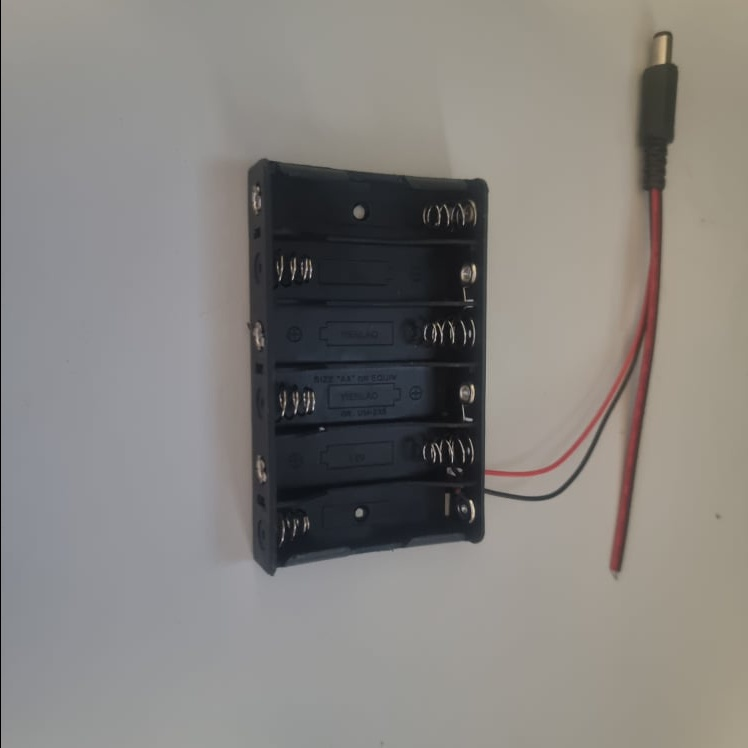BATTERY BOX: (243, 161, 489, 578)
